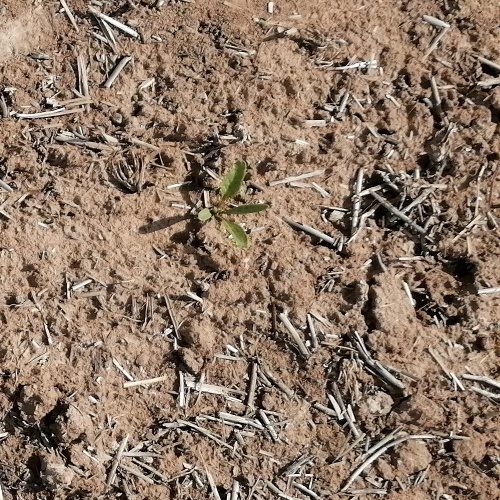beet: (196, 163, 270, 247)
